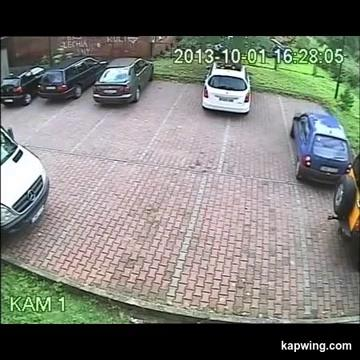car: (0, 126, 49, 235), (290, 110, 351, 184), (328, 153, 359, 269), (38, 56, 107, 99), (93, 57, 153, 103), (202, 62, 250, 113), (1, 65, 45, 105)
